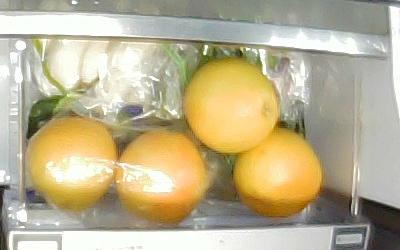grapefruit: (185, 59, 279, 154), (233, 126, 321, 216)
grapefruit_vinyl: (118, 130, 208, 223), (27, 120, 117, 211)
